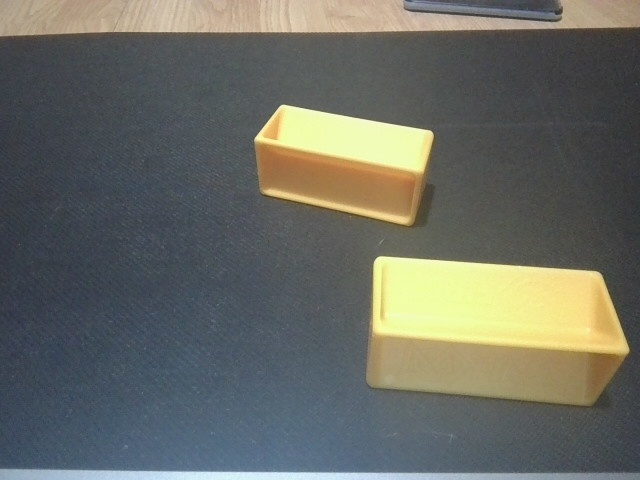YellowSample: (361, 248, 633, 412), (251, 99, 438, 233)
